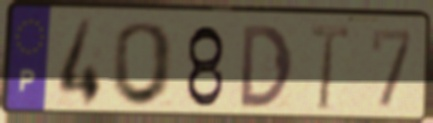4: (55, 16, 106, 111)
7: (368, 26, 414, 112)
8: (185, 23, 225, 109)
D: (238, 22, 296, 111)
O: (108, 20, 178, 109)
T: (308, 21, 353, 113)
